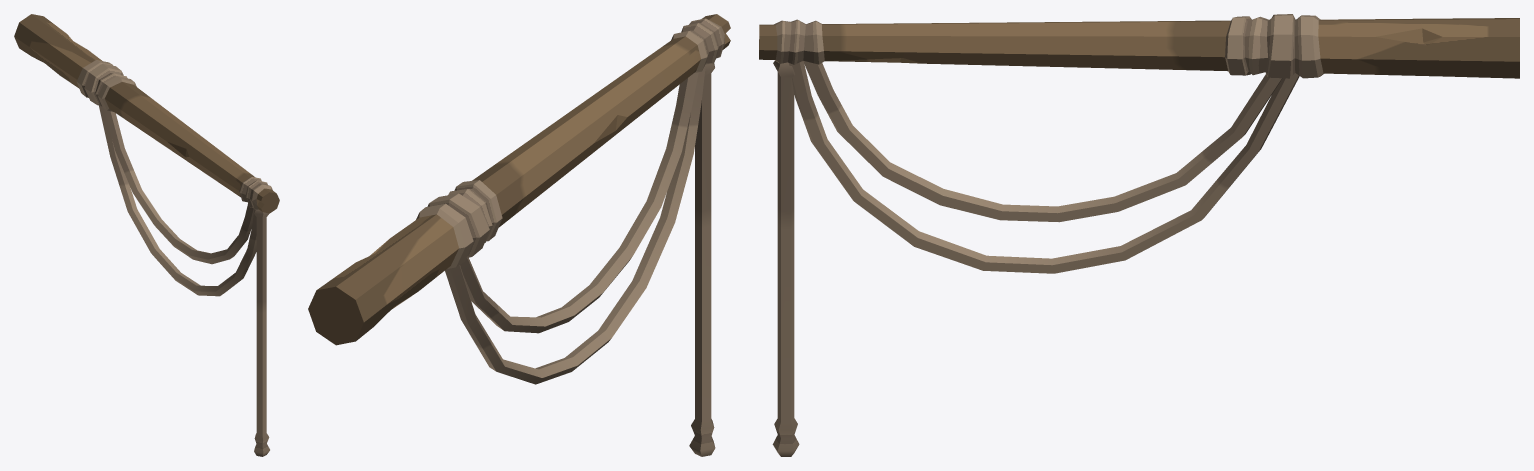
Rendered from SM_Prop_Greeble_01.fbx.
3 renders of one model, left to right at view 1: azimuth 30°, elevation 25°; view 2: azimuth 150°, elevation 25°; view 3: azimuth 270°, elevation 25°, orthographic. The views are drawn at different scales.
Visible parts, largest first — view 1: SM_Prop_Greeble_01; view 2: SM_Prop_Greeble_01; view 3: SM_Prop_Greeble_01.
Boxes of the visible parts, <box> form: SM_Prop_Greeble_01: <box>14,14,279,456</box>; SM_Prop_Greeble_01: <box>308,14,730,456</box>; SM_Prop_Greeble_01: <box>759,14,1519,456</box>.
Bounding box in the file's own units: 49.82 × 351 × 551.
